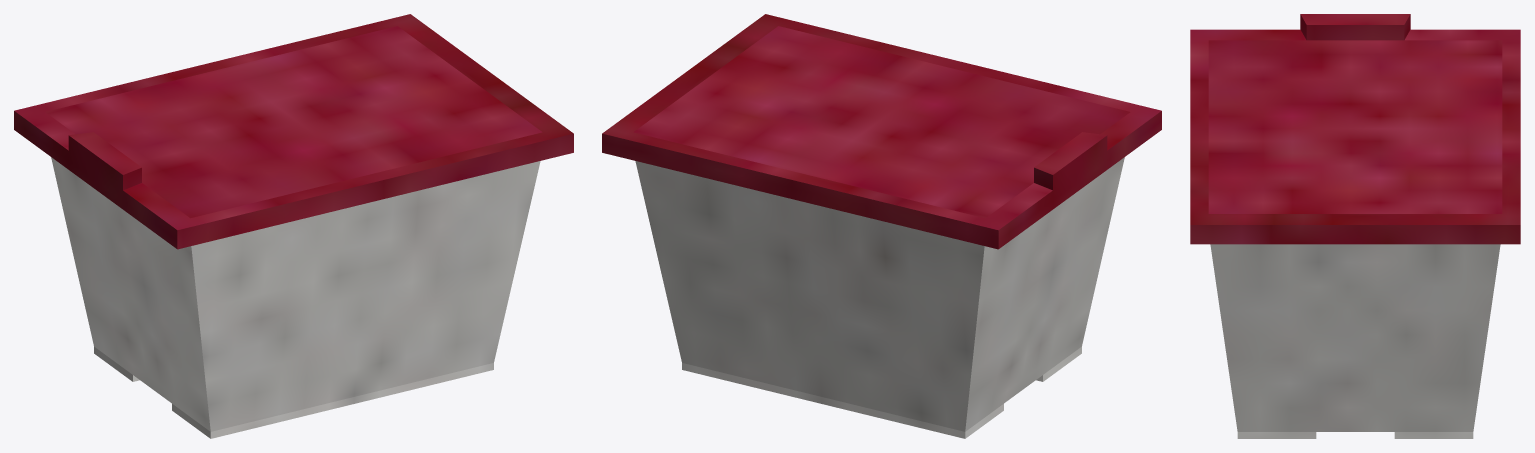
File: create-2.fbx
3 renders of one model, left to right at view 1: azimuth 30°, elevation 25°; view 2: azimuth 150°, elevation 25°; view 3: azimuth 270°, elevation 25°, orthographic.
Visible parts, largest first — view 1: Cube.053; view 2: Cube.053; view 3: Cube.053.
Part boxes in pixels (x1=…): Cube.053: x1=14, y1=14, x2=573, y2=438; Cube.053: x1=602, y1=14, x2=1161, y2=438; Cube.053: x1=1190, y1=14, x2=1520, y2=438.
Size of the model in its own units: 94.55 by 58.1 by 67.5.
